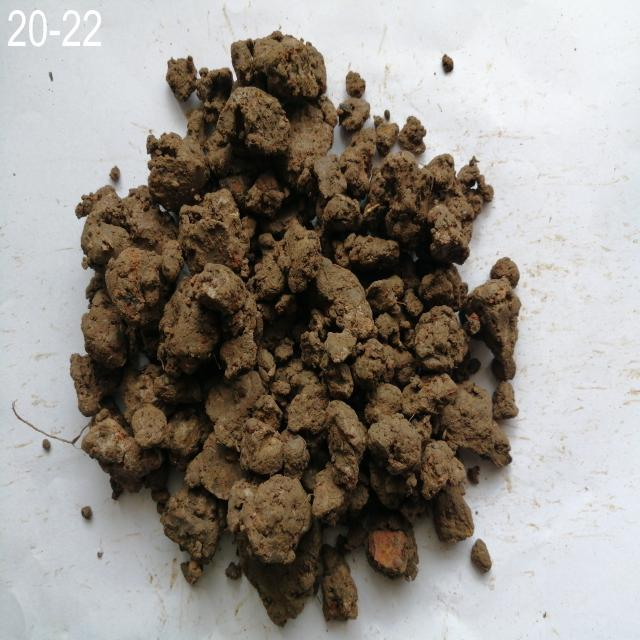soil: (157, 146, 430, 514)
